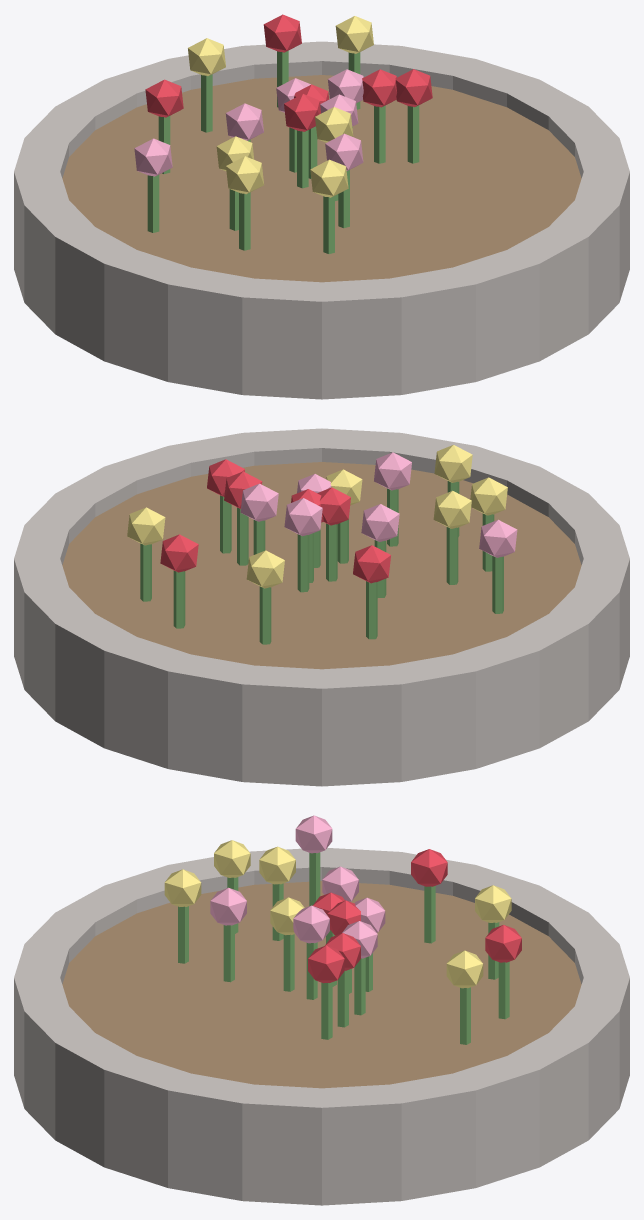
File: HOB_FlowerBed.fbx
The picture shows the model from 3 angles, top to bottom: view 1: azimuth 30°, elevation 25°; view 2: azimuth 150°, elevation 25°; view 3: azimuth 270°, elevation 25°; orthographic projection.
Parts seen in each view (by area): view 1: HOB_FlowerBed; view 2: HOB_FlowerBed; view 3: HOB_FlowerBed.
Boxes of the visible parts, x1,y1,x2,y2 form: HOB_FlowerBed: [14, 14, 629, 399]; HOB_FlowerBed: [14, 428, 629, 786]; HOB_FlowerBed: [14, 815, 629, 1205].
Bounding box in the file's own units: 200 × 63 × 200.
